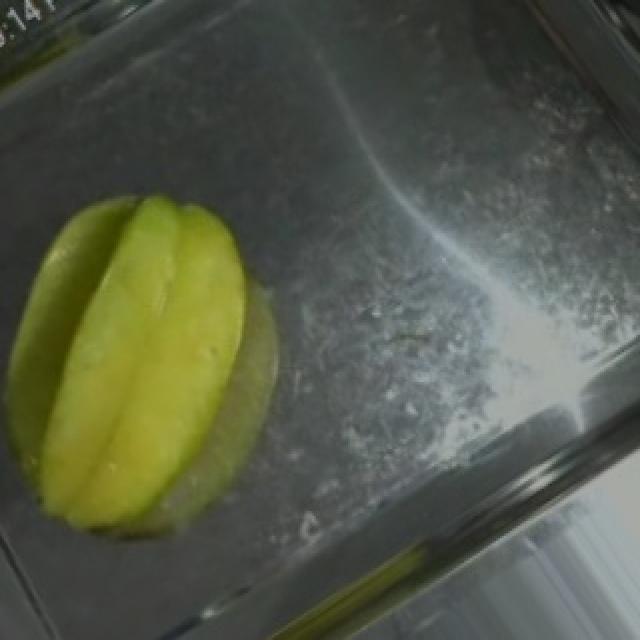fruit: (0, 144, 364, 543)
